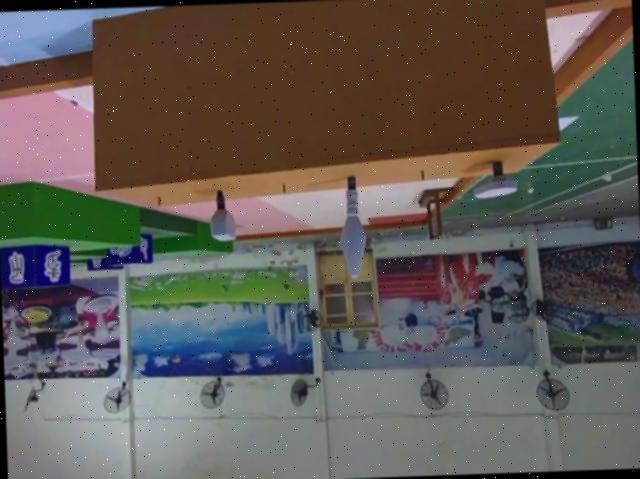Fist: (204, 189, 237, 240)
Hand: (471, 160, 519, 201)
Sph: (338, 175, 371, 280)
